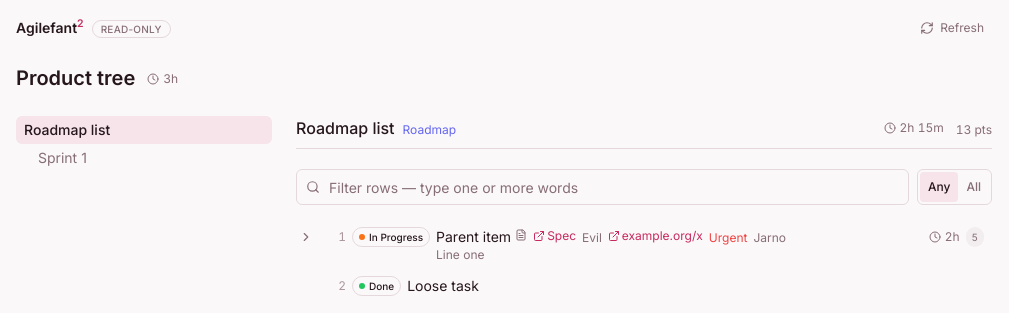
public list page: a list that does not come › keeps the list on the page when a Refresh fails
This screenshot has width=1009, height=313.
Expected: the heading "Product tree" is shown, top-left (16, 64), bottom-right (135, 92)
Click the button "Refresh": (952, 28) top-left (912, 16), bottom-right (992, 40)
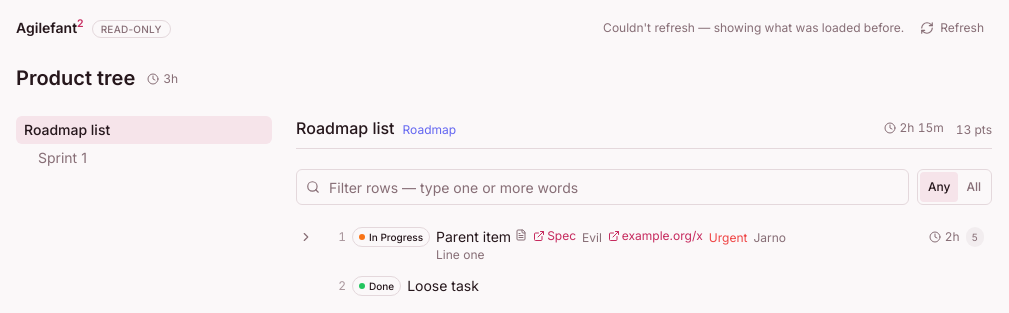
Expected: the heading "Product tree" is shown, top-left (16, 64), bottom-right (135, 92)
Expected: the text "Couldn't refresh — showing what was loaded before." is shown, top-left (603, 20), bottom-right (904, 36)
